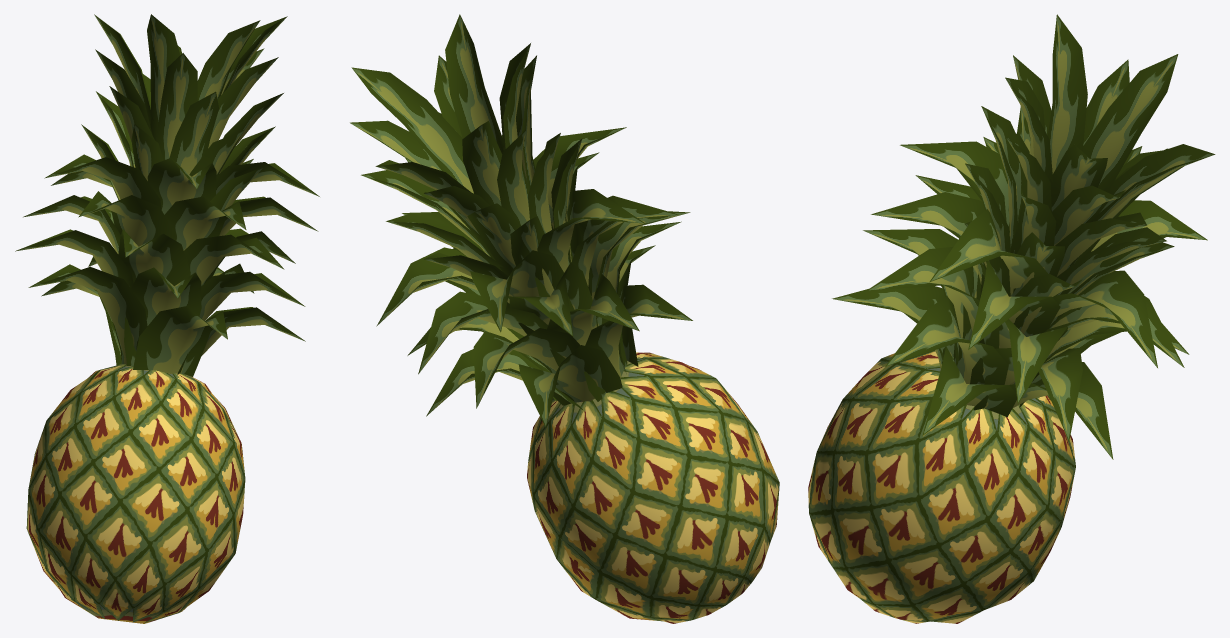
Rendered from pineapple.fbx.
3 renders of one model, left to right at view 1: azimuth 30°, elevation 25°; view 2: azimuth 150°, elevation 25°; view 3: azimuth 270°, elevation 25°, orthographic. The views are drawn at different scales.
Visible parts, largest first — view 1: Pineapple; view 2: Pineapple; view 3: Pineapple.
Boxes of the visible parts, x1,y1,x2,y2 form: Pineapple: (15, 14, 319, 623); Pineapple: (350, 14, 779, 623); Pineapple: (808, 14, 1215, 623).
Size of the model in its own units: 42.77 by 70.73 by 40.85.
